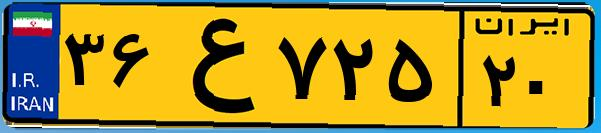0: (525, 38, 570, 115)
2: (330, 28, 385, 110), (475, 38, 525, 113)
3: (57, 26, 110, 100)
5: (385, 28, 445, 110)
6: (110, 28, 158, 98)
7: (270, 28, 330, 110)
ع: (158, 12, 270, 120)
